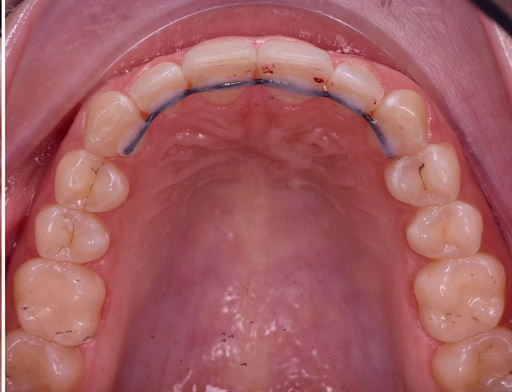UL1BC_decay: (387, 146, 459, 204)
UL1M_decay: (419, 257, 502, 341)
UL2BC_healthy: (410, 204, 481, 257)
UL2M_decay: (434, 330, 510, 389)
ULCI_decay: (260, 41, 331, 103)
ULC_decay: (370, 90, 426, 156)
ULLI_decay: (330, 64, 382, 115)
UR1BC_decay: (56, 151, 129, 212)
UR1M_decay: (16, 260, 102, 345)
UR2BC_decay: (36, 207, 108, 263)
UR2M_healthy: (11, 339, 80, 390)
URCI_decay: (185, 41, 255, 104)
URC_decay: (86, 91, 147, 158)
URLI_decay: (133, 63, 183, 115)
